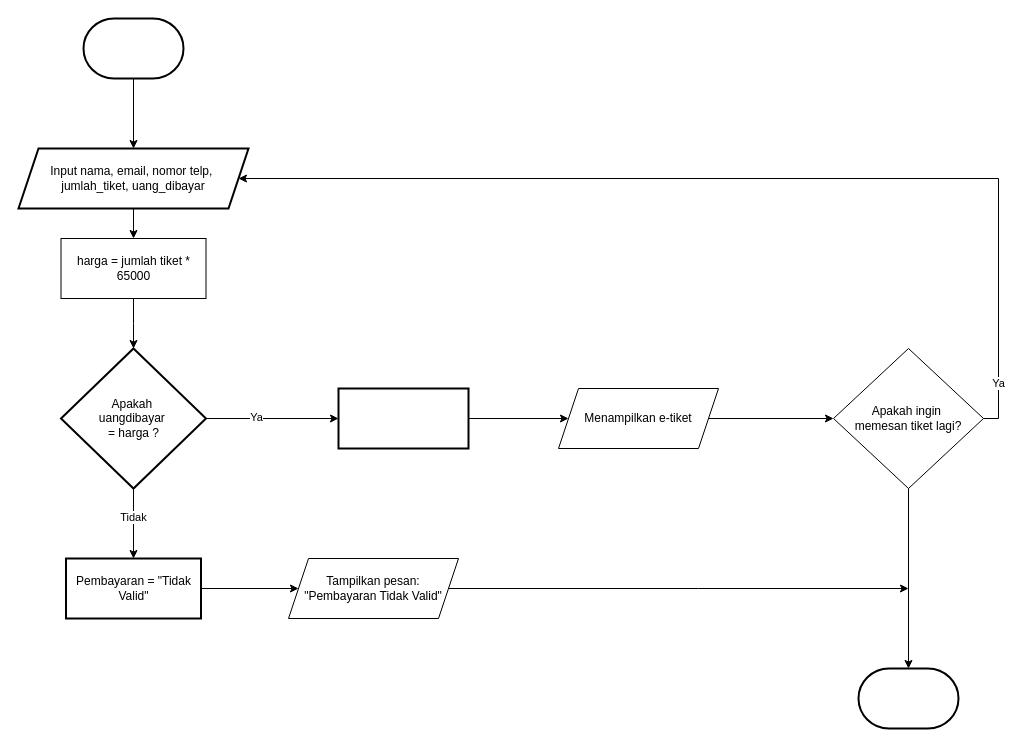
Some shapes in this 1024 by 746 pixel diagram are drawn without their labels. The centre of each missing label's shape, as x and y in pixels:
Finish: pixel 908 698
Pembayaran = "Valid": pixel 403 418
Start: pixel 133 48
